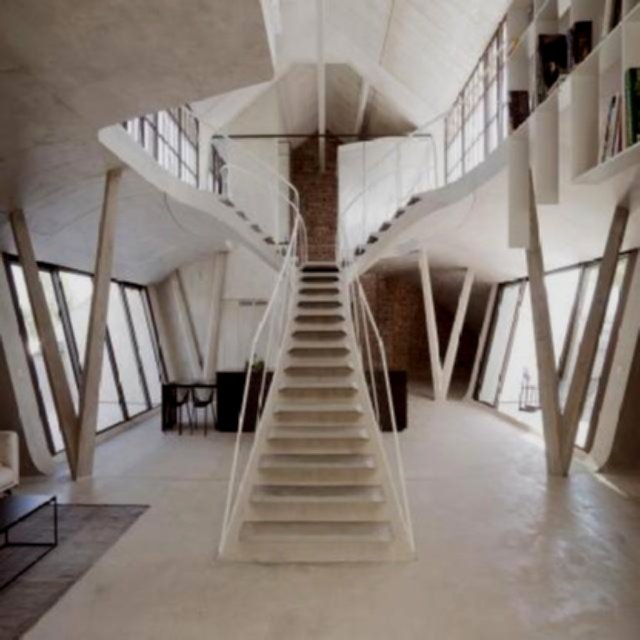stair: (210, 159, 415, 582)
